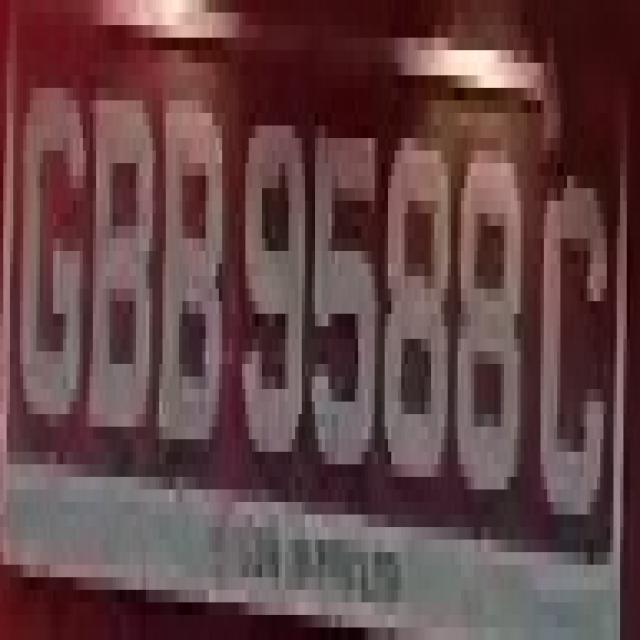5: (308, 88, 382, 489)
8: (378, 88, 451, 514), (451, 126, 524, 527)
9: (239, 88, 305, 489)
B: (163, 75, 232, 502), (83, 76, 152, 464)
C: (534, 163, 620, 540)
G: (16, 50, 83, 439)
